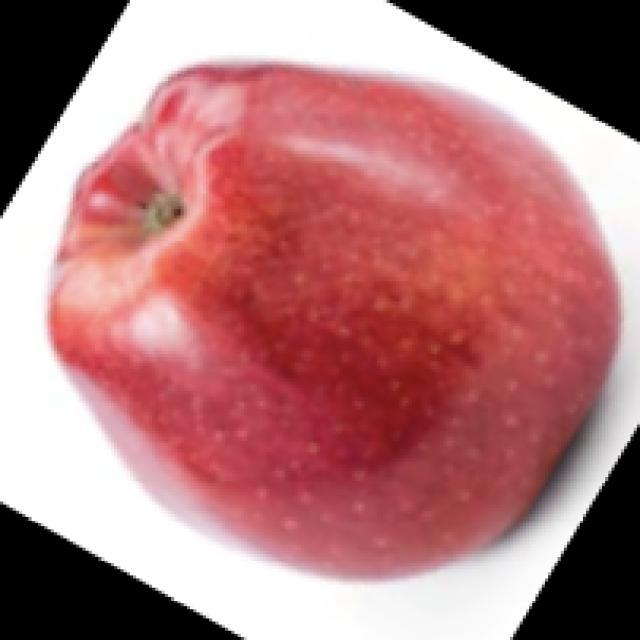Apple: (45, 57, 621, 583)
